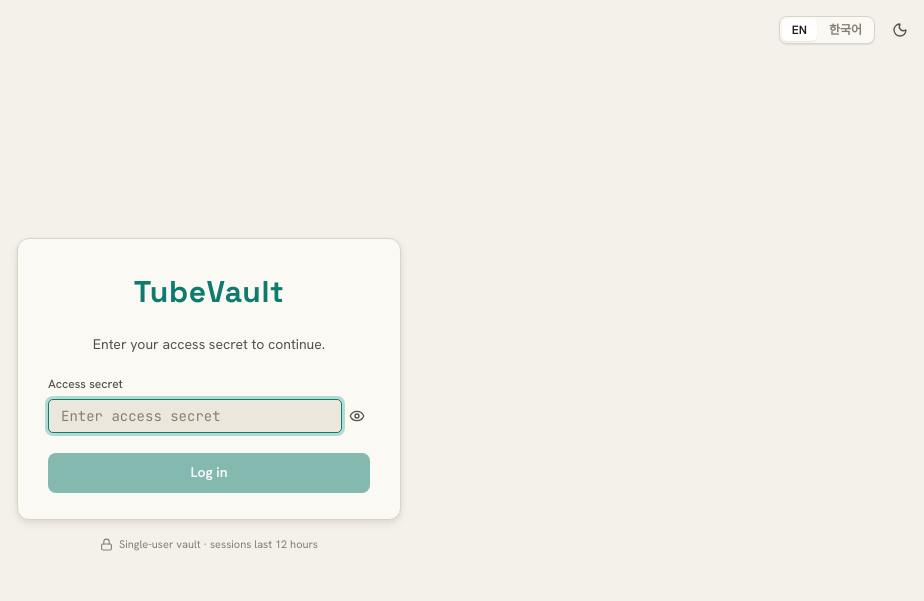
Test: LoginPage › shows a cooldown and disables submit on a 429
Type "secret" into the password field labelled "Access secret" at (195, 416), box [48,399,342,433]
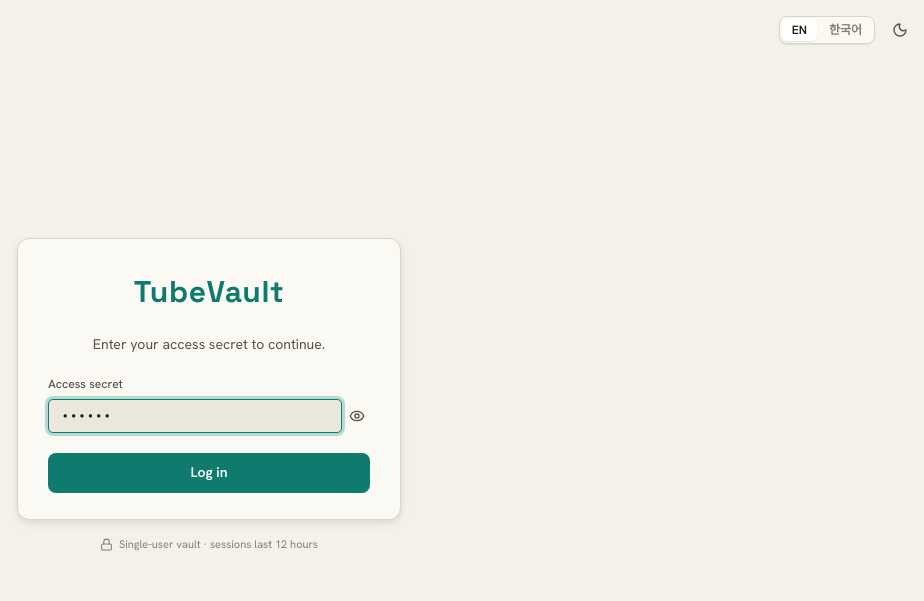
Click the button "Log in" at (209, 473), box [48,453,370,493]
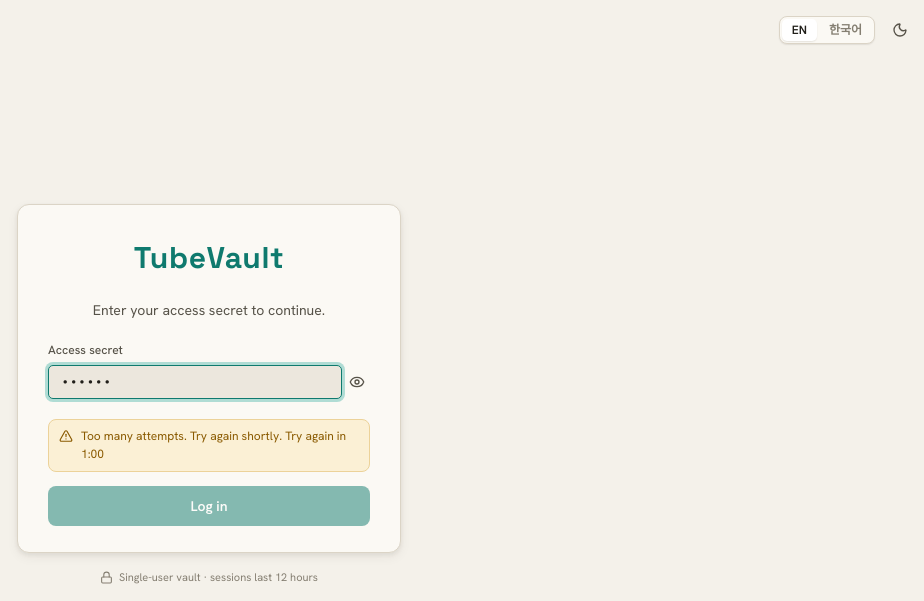
Result: the text "Try again in 1:00" is shown at [81,428,346,462]
Result: the button "Log in" is disabled at [48,486,370,526]
